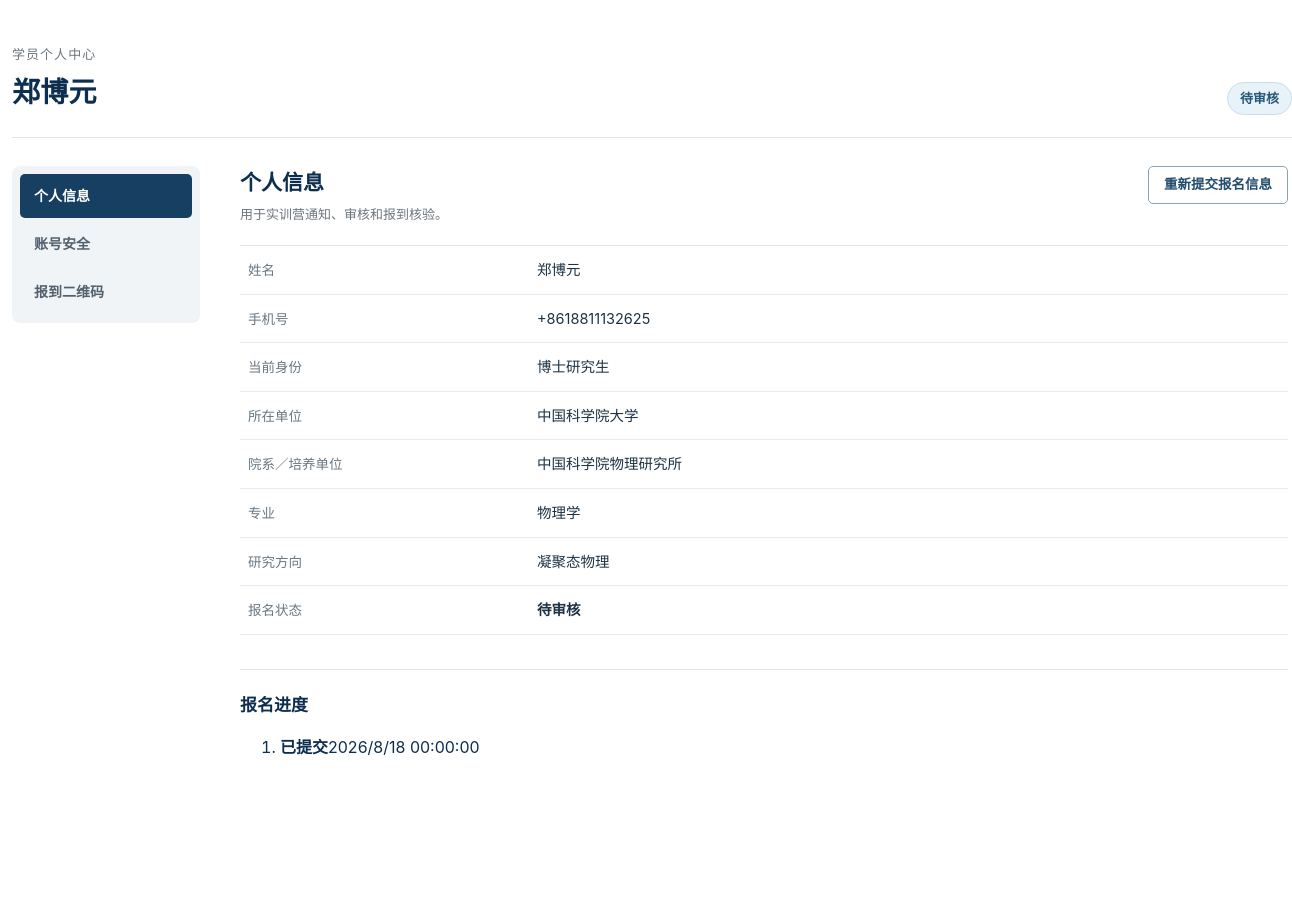
student account center › renders one-row profile fields and gates the QR code until admission
Expected: the heading "个人信息" is shown, [240, 170, 324, 195]
Expected: the text "姓名" reads "姓名 郑博元", [240, 246, 1288, 295]
Click the button "报到二维码" at (106, 293), box [20, 270, 192, 315]
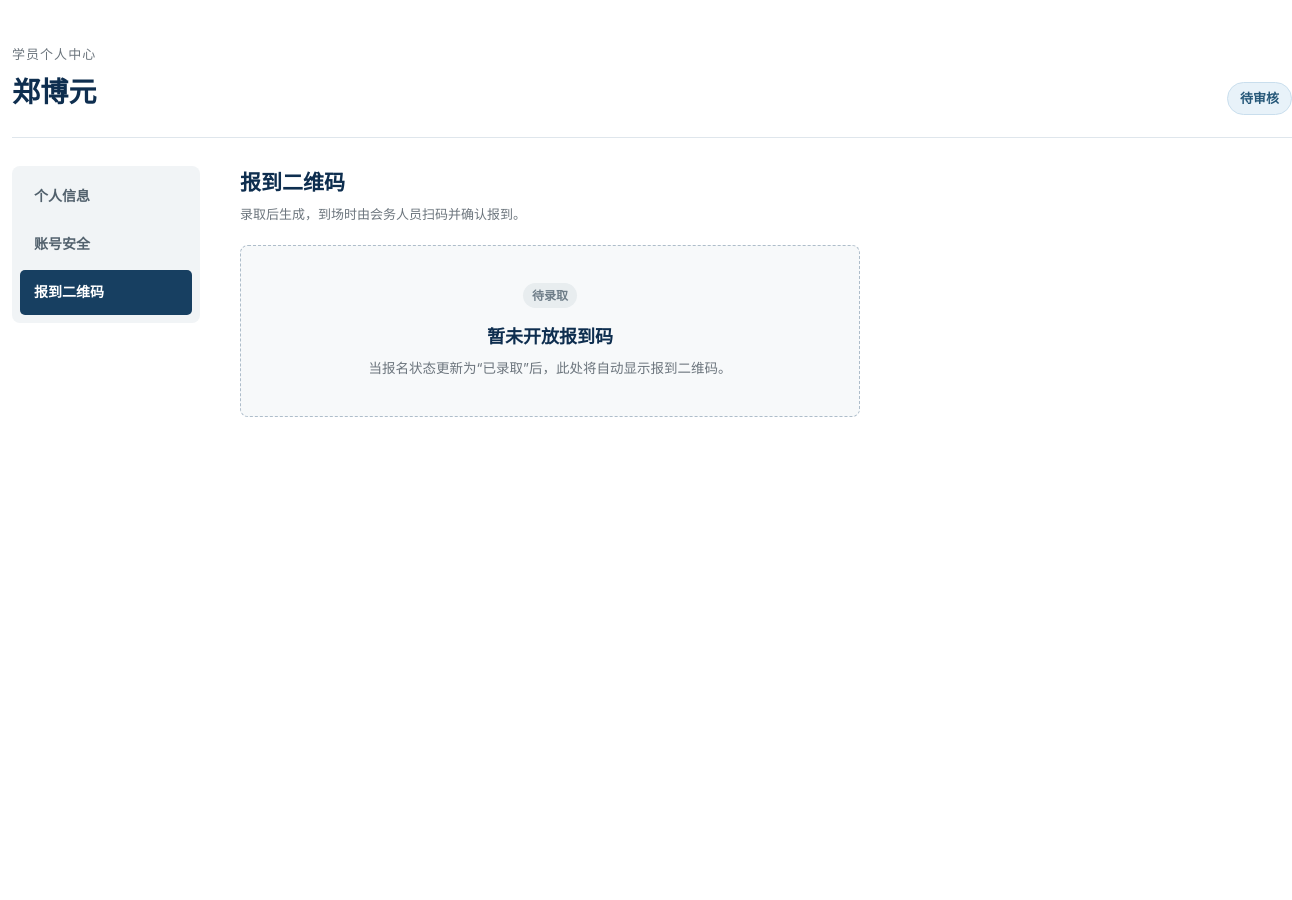
Result: the heading "暂未开放报到码" is shown at [487, 326, 613, 347]
